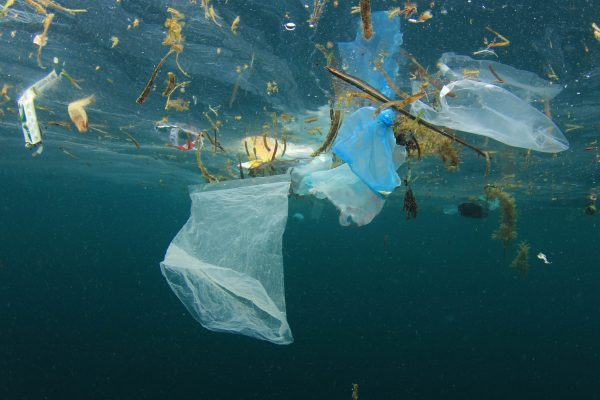litter: (162, 169, 303, 345), (412, 68, 572, 154), (331, 112, 404, 192), (309, 163, 390, 235), (17, 79, 56, 158), (153, 117, 209, 157)
